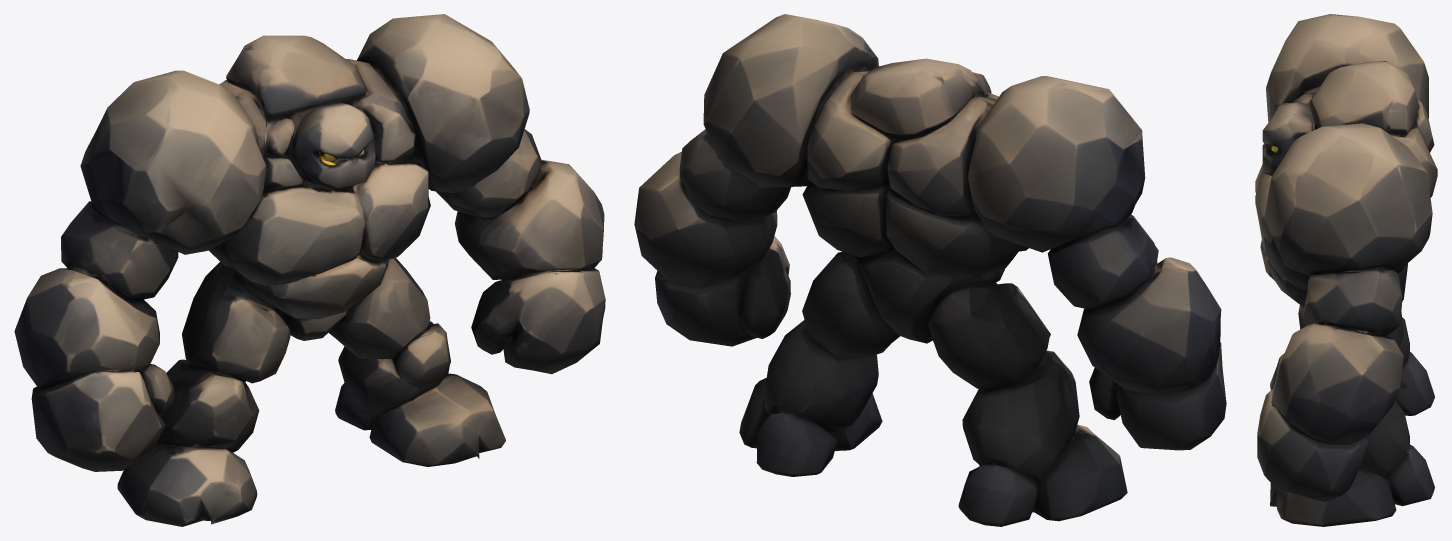
Rendered from original-01-glb.glb.
3 views of the same model, side by side, from view 1: azimuth 30°, elevation 25°; view 2: azimuth 150°, elevation 25°; view 3: azimuth 270°, elevation 25° (orthographic). The views are drawn at different scales.
Parts seen in each view (by area): view 1: material; view 2: material; view 3: material.
Part boxes in pixels (x1,y1,x2,y2): material: (14,14,605,526); material: (634,14,1226,526); material: (1255,14,1437,526).
Size of the model in its own units: 1.9 by 1.32 by 0.58.
1 material, 1 textured.
